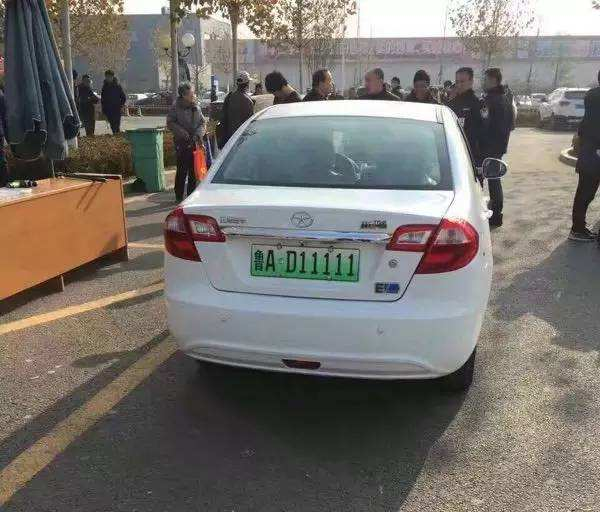plate: (243, 235, 365, 290)
